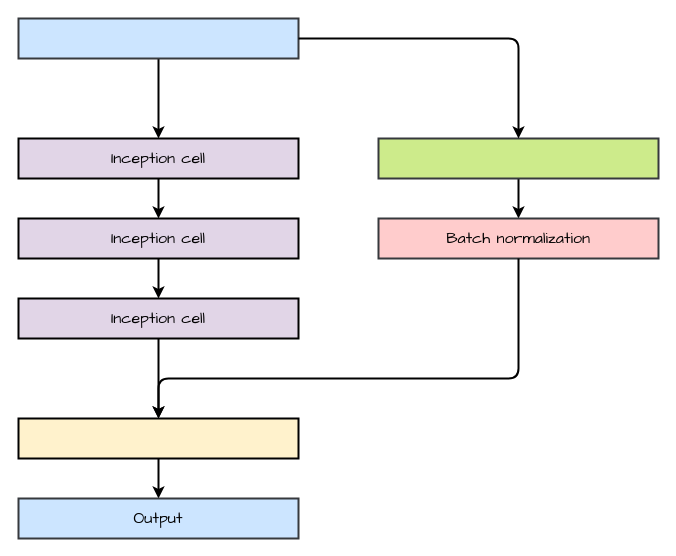
Image size: 676x556. Some labels were removed from this diagram. The shapes that lost their labels are listed below. From the top down, each one's centre as x and y in pixels, then its label:
(158,38): Input
(518,158): Convolution
(158,438): Flatten
